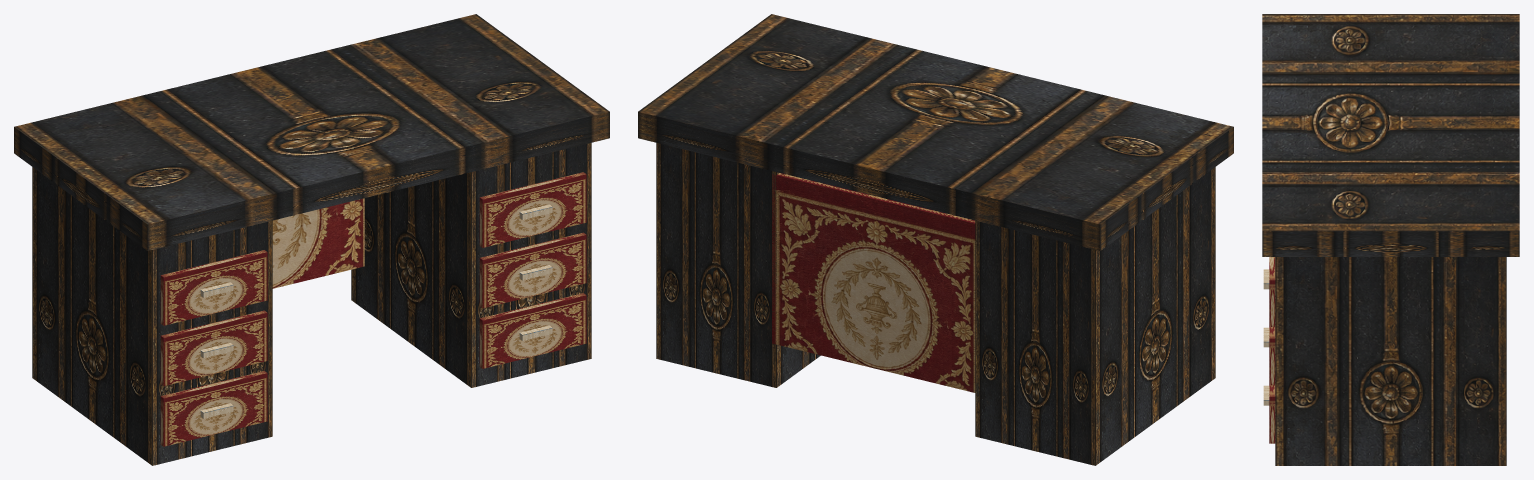
File: resolute-desk.gltf
3 renders of one model, left to right at view 1: azimuth 30°, elevation 25°; view 2: azimuth 150°, elevation 25°; view 3: azimuth 270°, elevation 25°, orthographic. The views are drawn at different scales.
Parts seen in each view (by area): view 1: kit:0:furniture:mahogany:, kit:0:furniture:panel:, kit:0:furniture:gold:; view 2: kit:0:furniture:mahogany:, kit:0:furniture:panel:; view 3: kit:0:furniture:mahogany:, kit:0:furniture:panel:, kit:0:furniture:gold:.
Boxes of the visible parts, x1,y1,x2,y2 form: kit:0:furniture:mahogany:: (14,14,609,465); kit:0:furniture:panel:: (160,172,586,446); kit:0:furniture:gold:: (200,204,552,418); kit:0:furniture:mahogany:: (638,14,1233,465); kit:0:furniture:panel:: (772,173,975,392); kit:0:furniture:mahogany:: (1262,14,1519,465); kit:0:furniture:panel:: (1269,257,1275,443); kit:0:furniture:gold:: (1263,269,1269,405).
Bounding box in the file's own units: 2 × 1.03 × 1.
3 materials, 3 textured.
